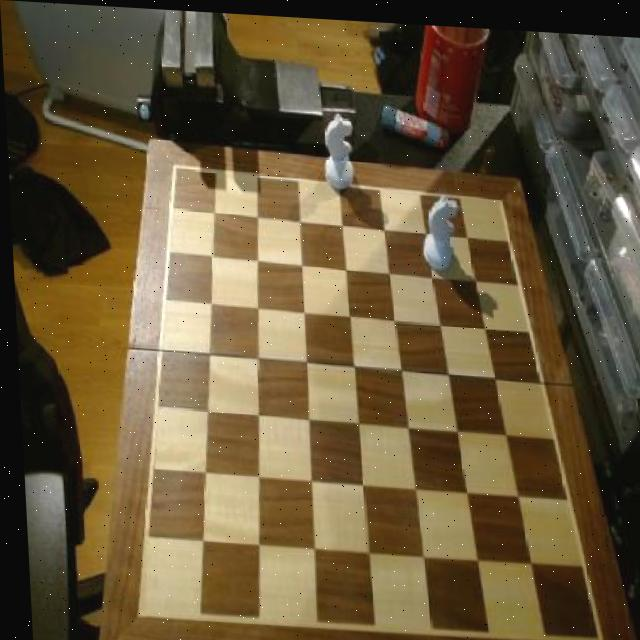white-king: (416, 188, 459, 270), (318, 109, 356, 190)
